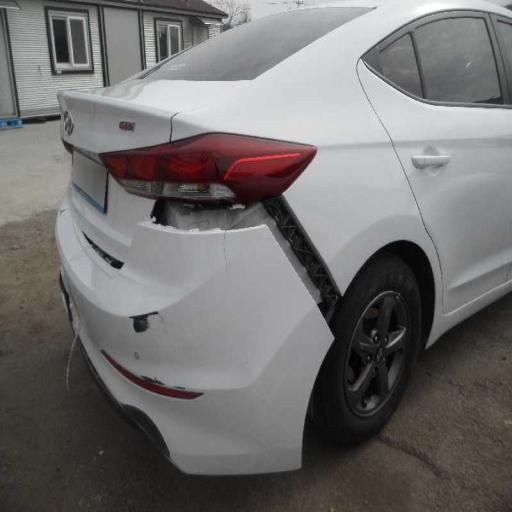broken: (129, 126, 380, 339)
scratch: (85, 316, 226, 450)
